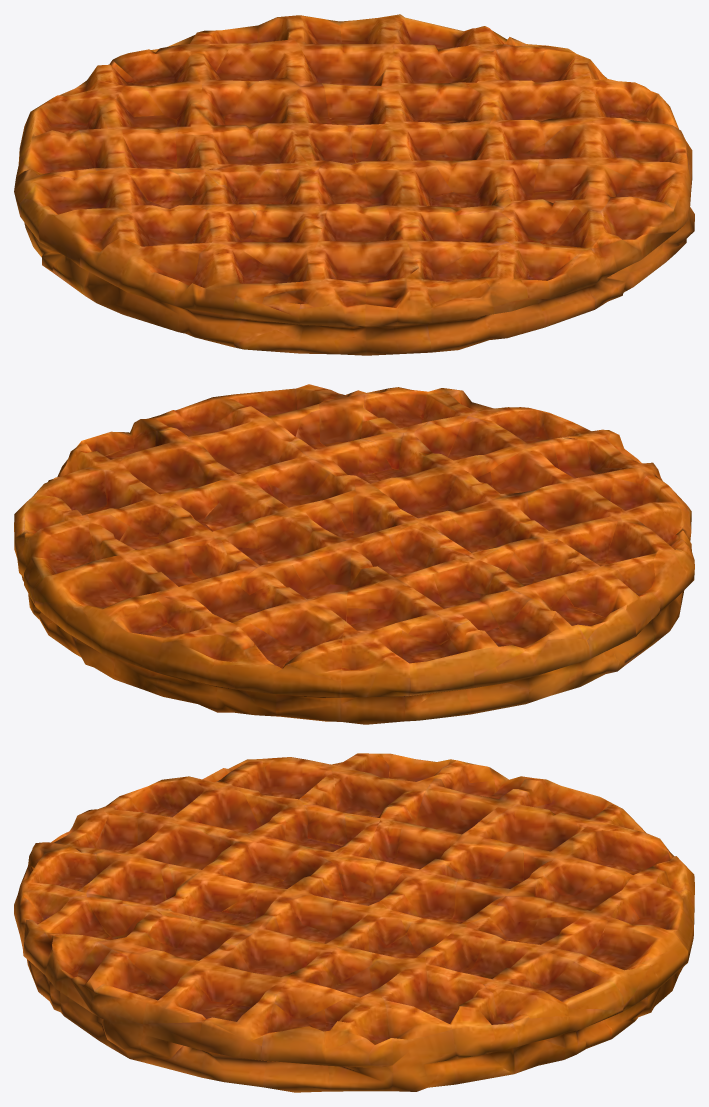
File: stroopwafel.glb
3 views of the same model, one above another, from view 1: azimuth 30°, elevation 25°; view 2: azimuth 150°, elevation 25°; view 3: azimuth 270°, elevation 25° (orthographic).
Visible parts, largest first — view 1: mesh_node; view 2: mesh_node; view 3: mesh_node.
Part boxes in pixels (<box>): mesh_node: <box>14,14,694,355</box>; mesh_node: <box>14,384,694,724</box>; mesh_node: <box>14,753,694,1092</box>.
Size of the model in its own units: 1.9 by 0.2293 by 1.88.
1 material, 1 textured.
